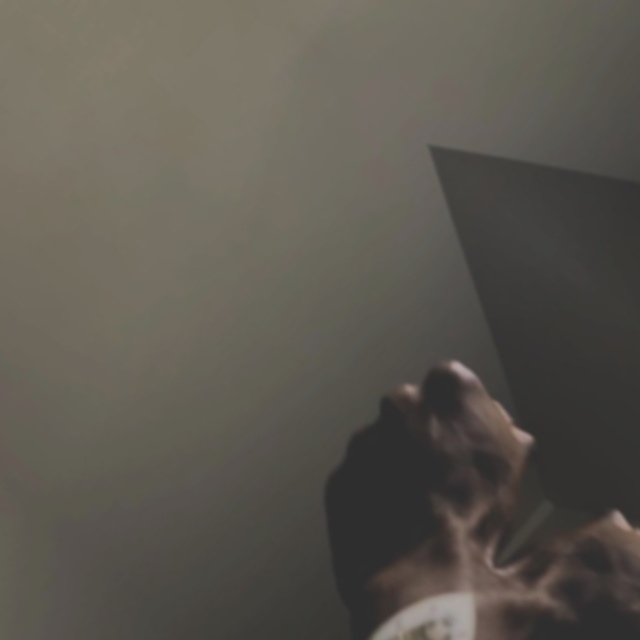Rock: (265, 333, 577, 640)
